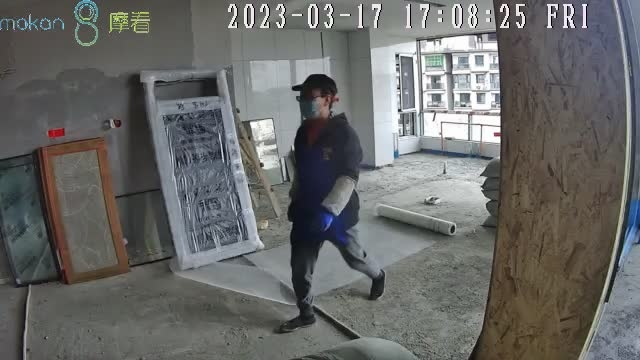people: (278, 73, 387, 333)
window: (419, 37, 499, 141)
